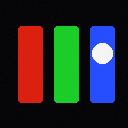2 circle: (92, 43, 112, 63)
